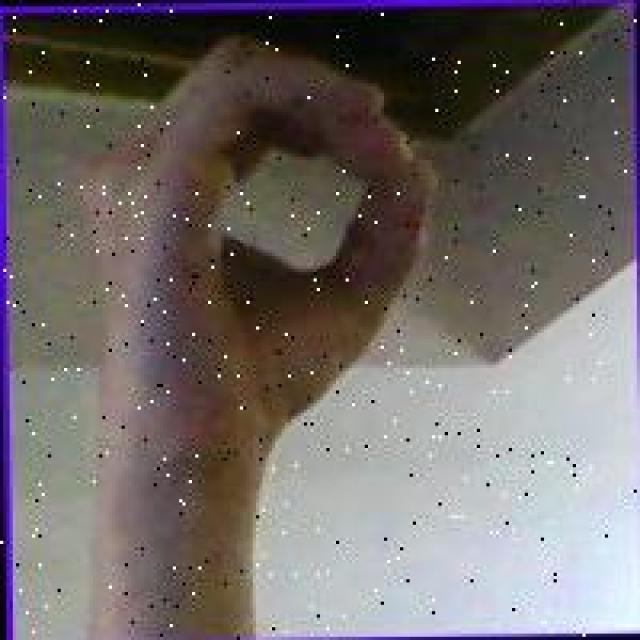O: (62, 26, 446, 477)
